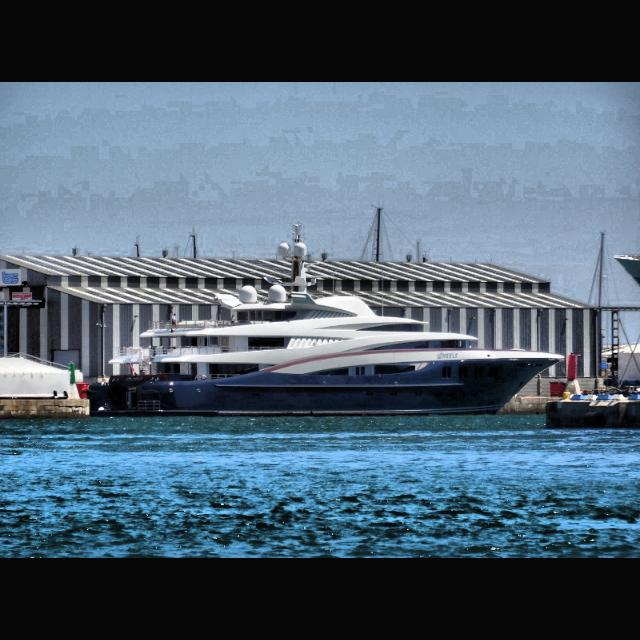yacht: (87, 240, 567, 418)
